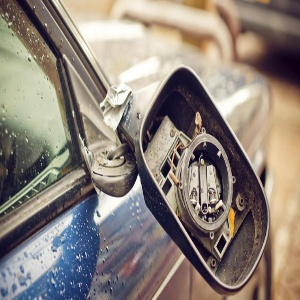side_mirror: (93, 54, 275, 294)
